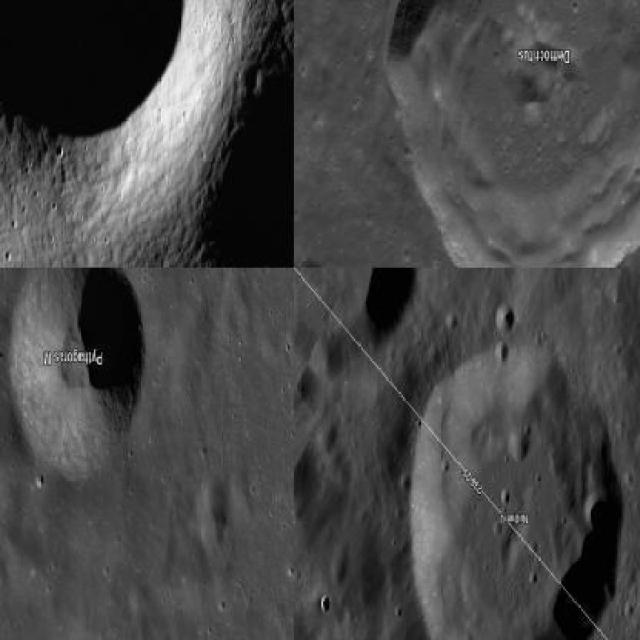crater: (382, 0, 638, 266), (409, 331, 622, 638), (0, 0, 200, 152), (10, 268, 142, 475), (294, 268, 418, 363), (494, 302, 515, 332)
